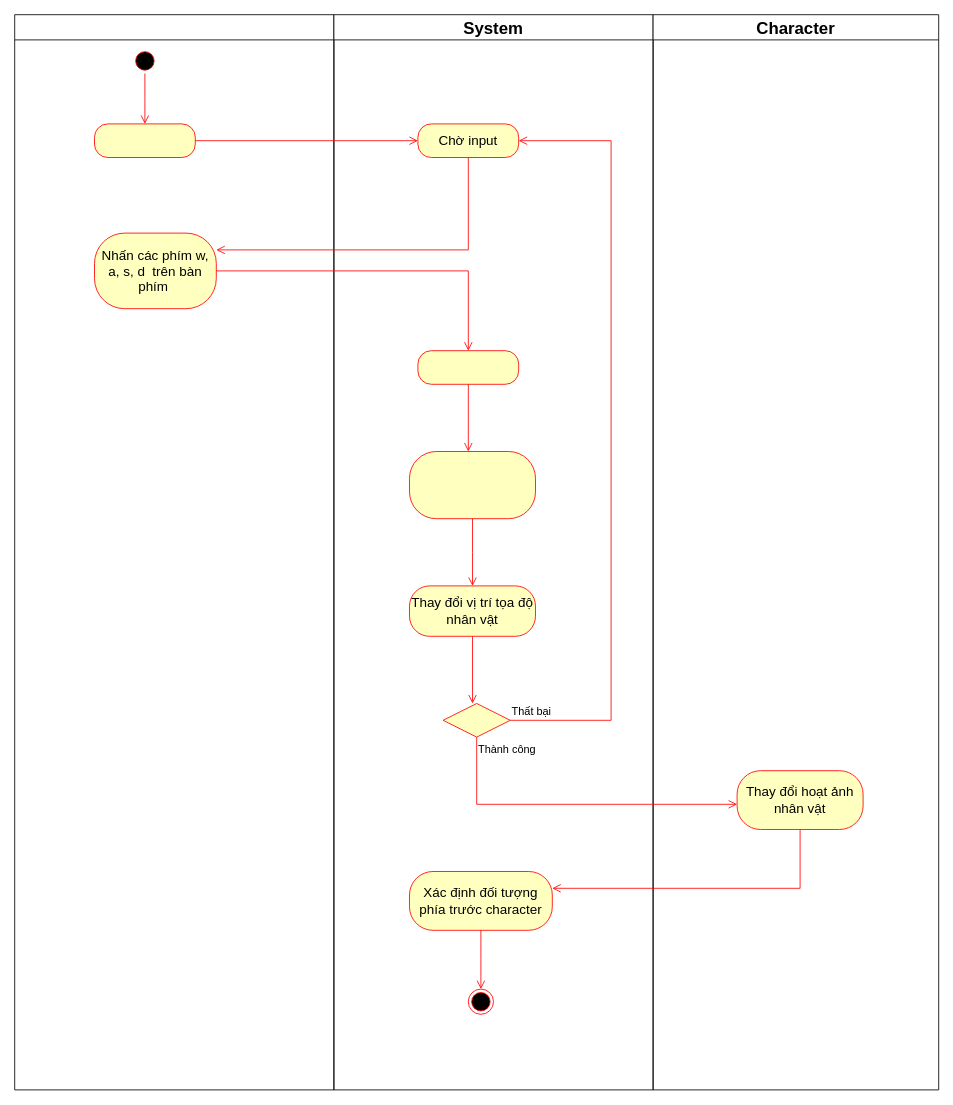
This 953x1105 diagram has some shape labels left out. The shapes that lost their labels are listed below. From the top down, each one's box as (x1, y1, x2, y2) in pixels, then its label:
(94, 123, 195, 158): Bắt đầu game
(417, 350, 519, 384): Xác nhận input
(409, 451, 536, 519): Xác định hướng tương đương với phím nhấn
(14, 14, 334, 1090): Player
